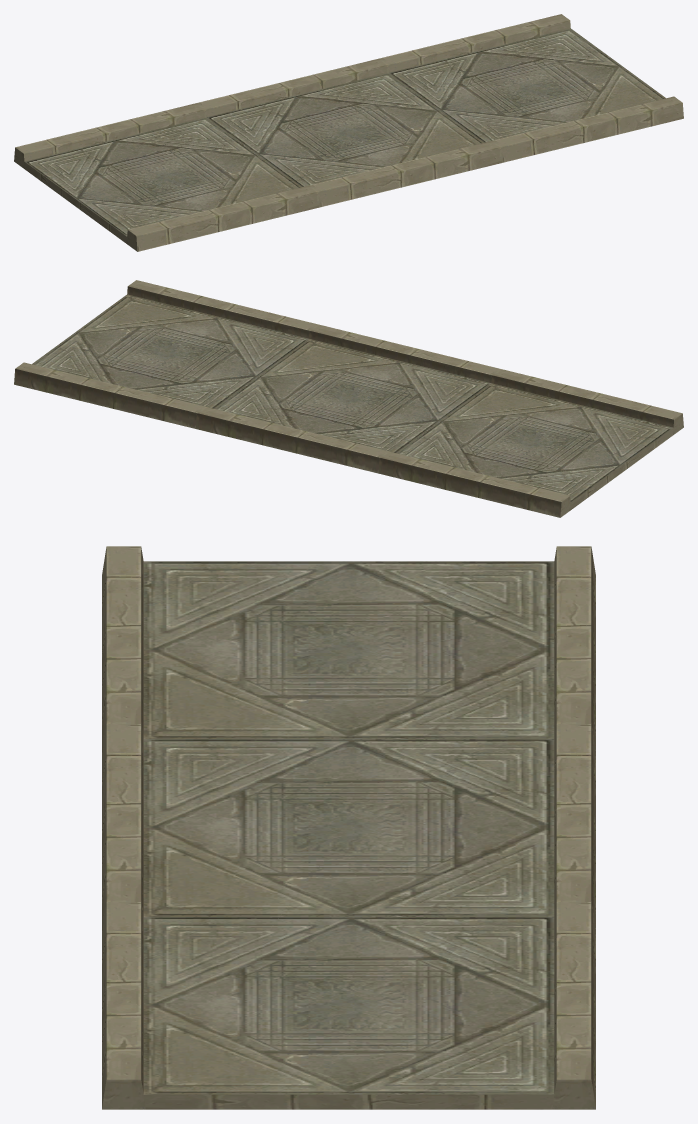
Rendered from environment_stone_dizhuan_003_a.FBX.
3 views of the same model, one above another, from view 1: azimuth 30°, elevation 25°; view 2: azimuth 150°, elevation 25°; view 3: azimuth 270°, elevation 25° (orthographic). The views are drawn at different scales.
Parts seen in each view (by area): view 1: environment_stone_dizhuan_003_a; view 2: environment_stone_dizhuan_003_a; view 3: environment_stone_dizhuan_003_a.
Boxes of the visible parts, left/top/right/bottom form: environment_stone_dizhuan_003_a: left=14, top=14, right=683, bottom=251; environment_stone_dizhuan_003_a: left=14, top=280, right=683, bottom=517; environment_stone_dizhuan_003_a: left=102, top=546, right=595, bottom=1109.
Size of the model in its own units: 600 by 15.79 by 235.
1 material, 1 textured.
